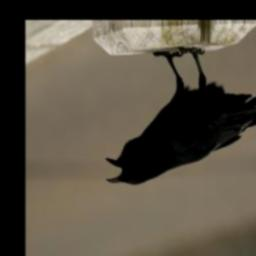Crow: (105, 46, 256, 185)
